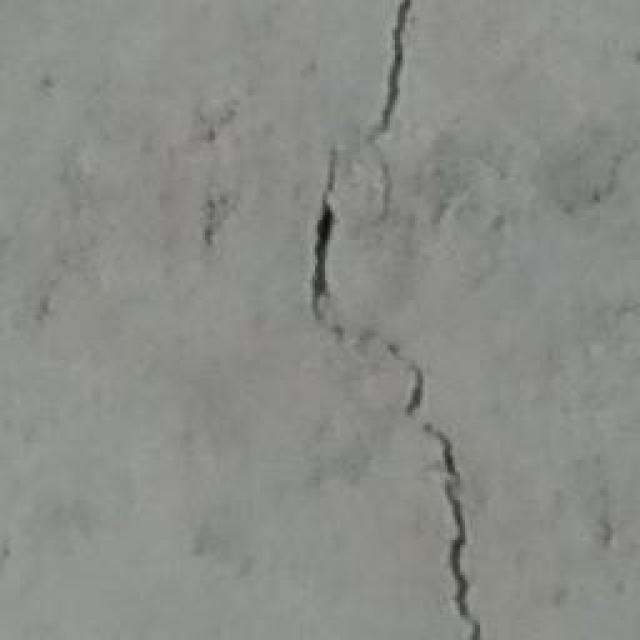Annular: (306, 121, 424, 251)
Longitudinal: (297, 262, 495, 640), (377, 2, 427, 104)
